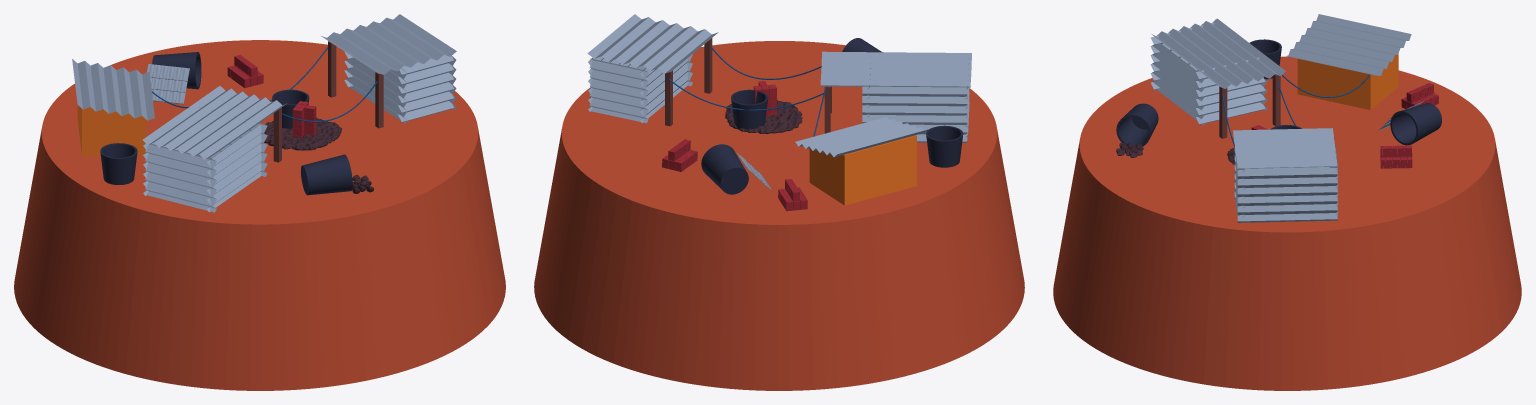
File: Township.glb
3 renders of one model, left to right at view 1: azimuth 30°, elevation 25°; view 2: azimuth 150°, elevation 25°; view 3: azimuth 270°, elevation 25°, orthographic. The views are drawn at different scales.
Visible parts, largest first — view 1: Platform.002, Cube.074, Cube.076, Plane.017, Cylinder.045, Roof, Cylinder.046, rock.015, Cylinder.044, Book7.102, Book6.013, Cylinder.043; view 2: Platform.002, Cube.074, Cube.076, Plane.017, Cylinder.044, Cylinder.046, Cylinder.043, rock.015, Book7.102, Book7.063, Book6.013; view 3: Platform.002, Cube.074, Cube.076, Plane.017, Cylinder.044, Cylinder.045, Book7.102, Book7.063, Cylinder.046.
Boxes of the visible parts, x1=… form: Platform.002: x1=14, y1=40, x2=505, y2=390; Cube.074: x1=142, y1=86, x2=287, y2=212; Cube.076: x1=321, y1=14, x2=456, y2=128; Plane.017: x1=72, y1=59, x2=154, y2=155; Cylinder.045: x1=300, y1=154, x2=352, y2=195; Roof: x1=146, y1=64, x2=189, y2=104; Cylinder.046: x1=100, y1=143, x2=137, y2=184; rock.015: x1=264, y1=117, x2=341, y2=150; Cylinder.044: x1=152, y1=52, x2=201, y2=89; Book7.102: x1=227, y1=54, x2=263, y2=88; Book6.013: x1=292, y1=101, x2=316, y2=137; Cylinder.043: x1=272, y1=89, x2=309, y2=128; Platform.002: x1=534, y1=41, x2=1024, y2=390; Cube.074: x1=820, y1=51, x2=971, y2=142; Cube.076: x1=587, y1=14, x2=718, y2=126; Plane.017: x1=795, y1=117, x2=928, y2=205; Cylinder.044: x1=701, y1=144, x2=748, y2=194; Cylinder.046: x1=926, y1=125, x2=963, y2=167; Cylinder.043: x1=731, y1=89, x2=768, y2=129; rock.015: x1=725, y1=100, x2=802, y2=133; Book7.102: x1=662, y1=139, x2=697, y2=171; Book7.063: x1=778, y1=179, x2=807, y2=211; Book6.013: x1=753, y1=81, x2=776, y2=116; Platform.002: x1=1053, y1=56, x2=1521, y2=390; Cube.074: x1=1150, y1=18, x2=1285, y2=138; Cube.076: x1=1233, y1=128, x2=1338, y2=222; Plane.017: x1=1286, y1=14, x2=1411, y2=109; Cylinder.044: x1=1390, y1=103, x2=1441, y2=145; Cylinder.045: x1=1116, y1=103, x2=1158, y2=146; Book7.102: x1=1380, y1=145, x2=1412, y2=168; Book7.063: x1=1401, y1=83, x2=1438, y2=108; Cylinder.046: x1=1249, y1=39, x2=1281, y2=79.
Size of the model in its own units: 15.31 by 7.32 by 15.31.
